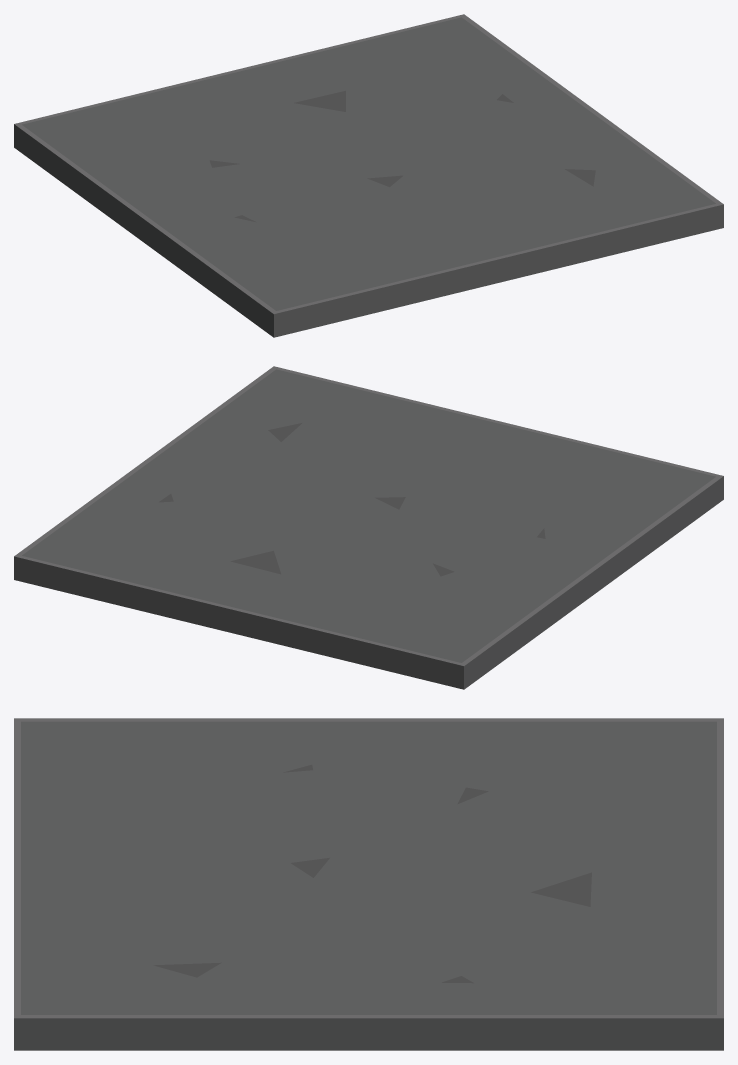
File: ConcrateSlabs_B_1_3.obj
3 renders of one model, top to bottom at view 1: azimuth 30°, elevation 25°; view 2: azimuth 150°, elevation 25°; view 3: azimuth 270°, elevation 25°, orthographic. The views are drawn at different scales.
Parts seen in each view (by area): view 1: ConcrateSlabs_B_1_3; view 2: ConcrateSlabs_B_1_3; view 3: ConcrateSlabs_B_1_3.
Boxes of the visible parts, x1,y1,x2,y2 form: ConcrateSlabs_B_1_3: (14, 14, 723, 337); ConcrateSlabs_B_1_3: (14, 366, 723, 689); ConcrateSlabs_B_1_3: (14, 718, 723, 1050).
Bounding box in the file's own units: 8 × 0.4 × 8.
